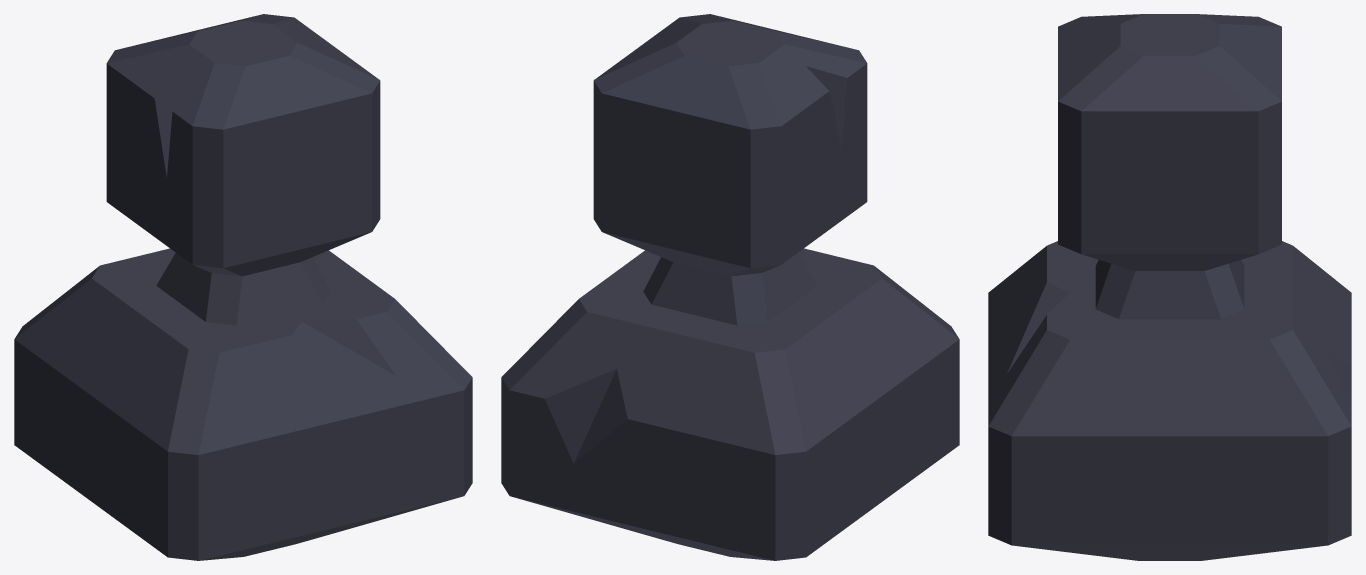
Rendered from Railing_Column_Incline_01.fbx.
3 views of the same model, side by side, from view 1: azimuth 30°, elevation 25°; view 2: azimuth 150°, elevation 25°; view 3: azimuth 270°, elevation 25° (orthographic). The views are drawn at different scales.
Visible parts, largest first — view 1: 1-Railing_Column_Incline; view 2: 1-Railing_Column_Incline; view 3: 1-Railing_Column_Incline.
Boxes of the visible parts, x1,y1,x2,y2 form: 1-Railing_Column_Incline: (14, 14, 472, 560); 1-Railing_Column_Incline: (501, 14, 959, 560); 1-Railing_Column_Incline: (988, 14, 1351, 560).
Size of the model in its own units: 1.43 by 1.43 by 2.18.
